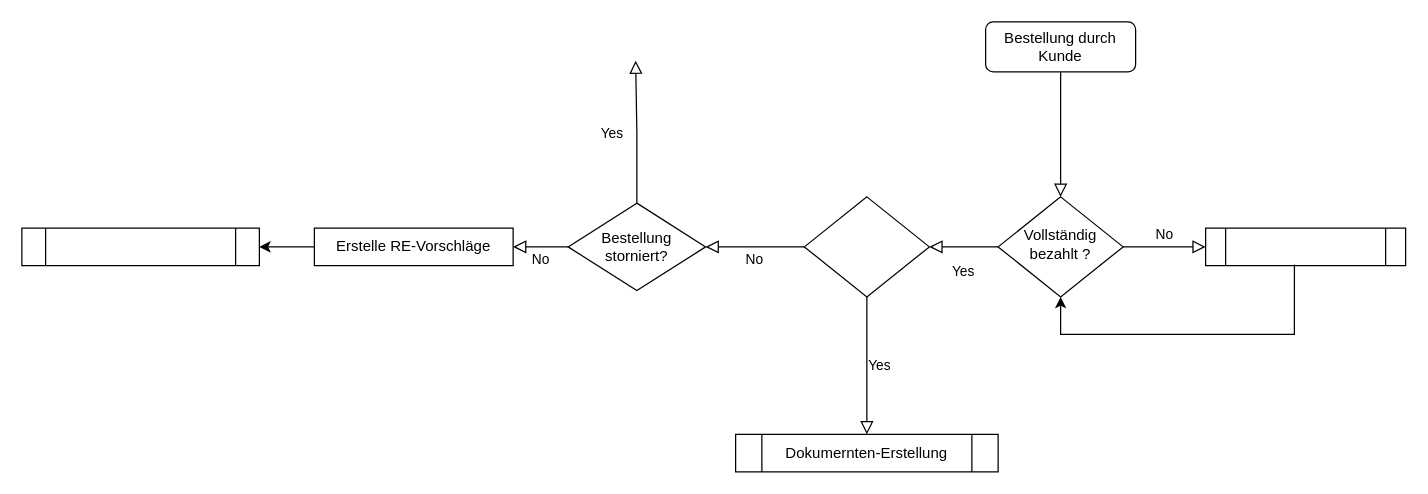
Image size: 1428x494. Some labels were removed from this diagram. The centre of each missing label's shape, as x and y in pixels:
"Automatische RE-Erstellung aktiv ?" belongs at point 866,246.
"RE-Erstellung (+Vorschau / Addressänderung)" belongs at point 140,246.
"Zahlung per FO" belongs at point 1305,246.
